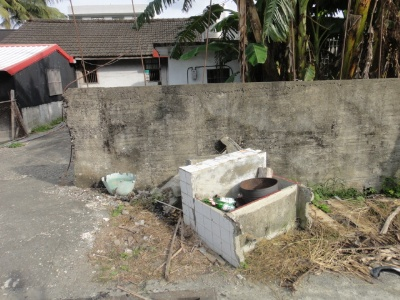bottle: (208, 200, 237, 212)
bowl: (98, 170, 139, 198)
bucket: (236, 177, 281, 203)
